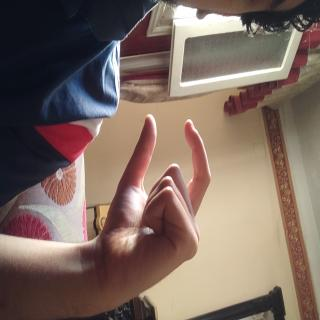DELL: (86, 143, 233, 320)
